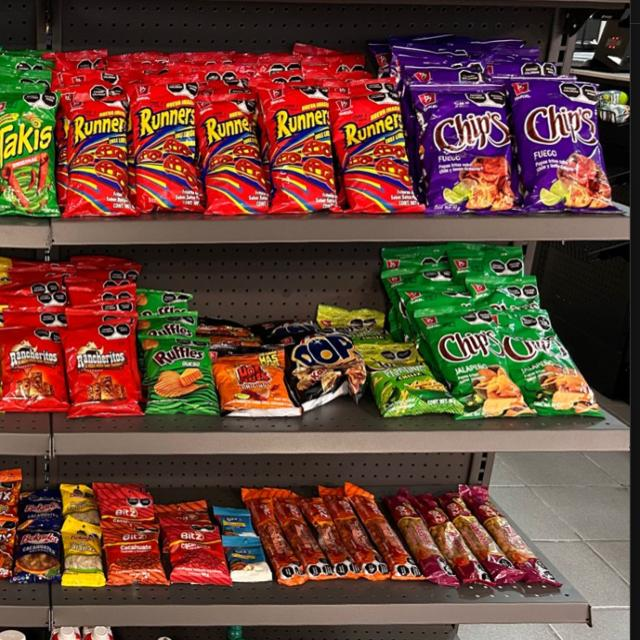bitzAlmendras: (226, 536, 261, 581)
bitzEnchilado90: (166, 518, 220, 586), (109, 517, 160, 585)
bitzEnchilado95: (269, 490, 386, 580)
bitzHabanero: (396, 489, 546, 591)
bokadosCacahuates: (15, 516, 61, 584)
chipsFuego: (416, 85, 511, 213), (521, 80, 604, 211)
chipsJalapeno: (431, 310, 502, 420), (506, 308, 574, 416)
chipsPapatinas: (362, 334, 426, 423)
hotNutsOriginal: (215, 347, 287, 420)
popKarameladas: (290, 324, 348, 412)
rancheritos: (64, 325, 131, 418), (0, 328, 59, 414)
rufflesQueso: (140, 344, 209, 418)
runners: (336, 86, 406, 210), (67, 90, 130, 219), (134, 88, 198, 214), (268, 85, 330, 215), (202, 92, 262, 216)
semillasCalabaza: (66, 515, 102, 586)
takisOriginal: (0, 92, 56, 216)
